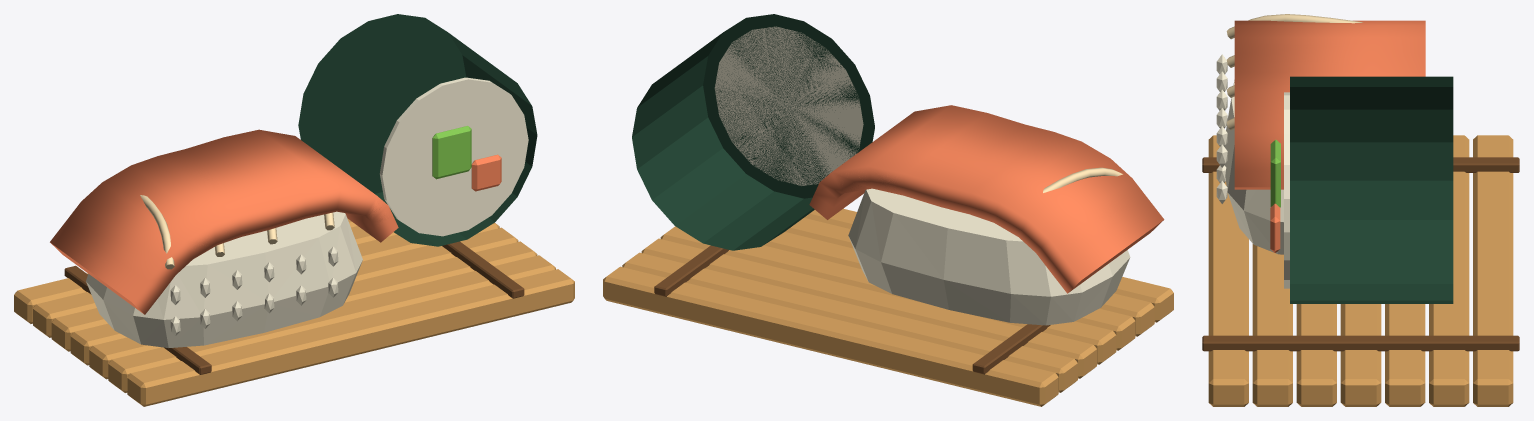
Rendered from sushi.obj.
3 views of the same model, side by side, from view 1: azimuth 30°, elevation 25°; view 2: azimuth 150°, elevation 25°; view 3: azimuth 270°, elevation 25° (orthographic). The views are drawn at different scales.
Visible parts, largest first — view 1: B_DrapedSalmon.001_sushi_salmon, D_NoriRoll.001_sushi_nori, A_NigiriRice.001_sushi_rice, TraySlat0.001_sushi_bamboo, E_RiceCut.001_sushi_rice, TraySlat1.001_sushi_bamboo, TraySlat2.001_sushi_bamboo, TraySlat3.001_sushi_bamboo, TraySlat4.001_sushi_bamboo, A_RiceGrains.001_sushi_rice, F_CucumberCut.001_sushi_cucumber, TraySlat5.001_sushi_bamboo (+5 smaller); view 2: D_NoriRoll.001_sushi_nori, B_DrapedSalmon.001_sushi_salmon, A_NigiriRice.001_sushi_rice, E_RiceCut.001_sushi_rice, TraySlat6.001_sushi_bamboo, TraySlat5.001_sushi_bamboo, TraySlat4.001_sushi_bamboo, TraySlat3.001_sushi_bamboo, TraySlat2.001_sushi_bamboo, TraySlat1.001_sushi_bamboo, TraySlat0.001_sushi_bamboo, TrayTie-1.001_sushi_bamboo_knots (+2 smaller); view 3: D_NoriRoll.001_sushi_nori, B_DrapedSalmon.001_sushi_salmon, TraySlat6.001_sushi_bamboo, TraySlat0.001_sushi_bamboo, TraySlat5.001_sushi_bamboo, TraySlat1.001_sushi_bamboo, TrayTie1.001_sushi_bamboo_knots, TraySlat3.001_sushi_bamboo, TraySlat2.001_sushi_bamboo, TraySlat4.001_sushi_bamboo, A_NigiriRice.001_sushi_rice, A_RiceGrains.001_sushi_rice (+5 smaller).
Boxes of the visible parts, <box> form: B_DrapedSalmon.001_sushi_salmon: <box>50,129,398,314</box>; D_NoriRoll.001_sushi_nori: <box>298,14,537,246</box>; A_NigiriRice.001_sushi_rice: <box>86,211,362,347</box>; TraySlat0.001_sushi_bamboo: <box>127,269,574,406</box>; E_RiceCut.001_sushi_rice: <box>379,77,528,236</box>; TraySlat1.001_sushi_bamboo: <box>108,255,555,392</box>; TraySlat2.001_sushi_bamboo: <box>89,241,537,379</box>; TraySlat3.001_sushi_bamboo: <box>70,227,518,365</box>; TraySlat4.001_sushi_bamboo: <box>51,222,499,351</box>; A_RiceGrains.001_sushi_rice: <box>170,246,338,335</box>; F_CucumberCut.001_sushi_cucumber: <box>432,126,471,179</box>; TraySlat5.001_sushi_bamboo: <box>33,226,396,337</box>; D_NoriRoll.001_sushi_nori: <box>632,14,874,250</box>; B_DrapedSalmon.001_sushi_salmon: <box>809,105,1164,293</box>; A_NigiriRice.001_sushi_rice: <box>848,188,1130,325</box>; E_RiceCut.001_sushi_rice: <box>714,26,863,185</box>; TraySlat6.001_sushi_bamboo: <box>603,266,1058,406</box>; TraySlat5.001_sushi_bamboo: <box>622,252,1077,392</box>; TraySlat4.001_sushi_bamboo: <box>641,238,1096,378</box>; TraySlat3.001_sushi_bamboo: <box>660,226,1116,364</box>; TraySlat2.001_sushi_bamboo: <box>764,232,1135,350</box>; TraySlat1.001_sushi_bamboo: <box>785,218,1154,336</box>; TraySlat0.001_sushi_bamboo: <box>804,208,1173,322</box>; TrayTie-1.001_sushi_bamboo_knots: <box>972,324,1050,374</box>; D_NoriRoll.001_sushi_nori: <box>1290,76,1453,303</box>; B_DrapedSalmon.001_sushi_salmon: <box>1234,20,1425,189</box>; TraySlat6.001_sushi_bamboo: <box>1473,135,1513,406</box>; TraySlat0.001_sushi_bamboo: <box>1208,135,1248,406</box>; TraySlat5.001_sushi_bamboo: <box>1429,135,1469,406</box>; TraySlat1.001_sushi_bamboo: <box>1252,244,1292,406</box>; TrayTie1.001_sushi_bamboo_knots: <box>1202,335,1519,351</box>; TraySlat3.001_sushi_bamboo: <box>1340,304,1381,406</box>; TraySlat2.001_sushi_bamboo: <box>1296,304,1336,406</box>; TraySlat4.001_sushi_bamboo: <box>1385,304,1425,406</box>; A_NigiriRice.001_sushi_rice: <box>1224,80,1283,254</box>; A_RiceGrains.001_sushi_rice: <box>1216,54,1227,203</box>.
Bounding box in the file's own units: 1.9 × 0.9644 × 1.03.
